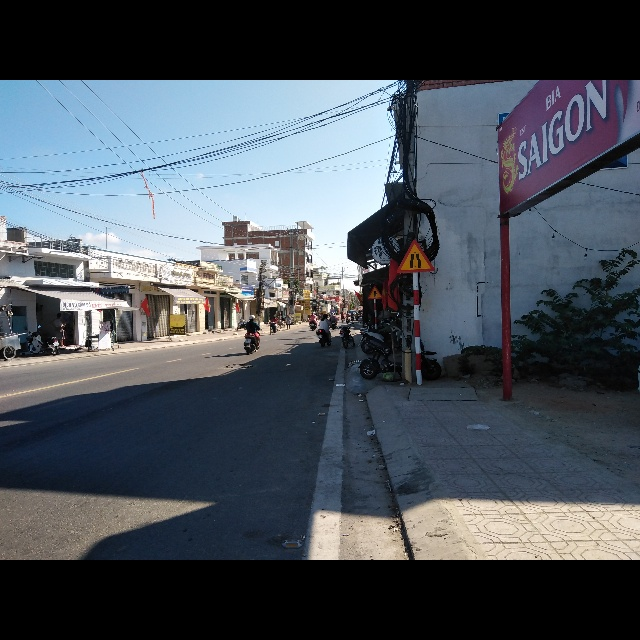Đường bị hẹp cả hai bên: (395, 238, 436, 273)
